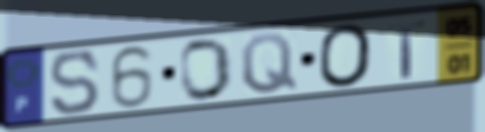6: (108, 43, 157, 111)
O: (316, 22, 374, 90), (178, 36, 235, 104)
Q: (238, 31, 300, 97)
S: (47, 48, 103, 118)
T: (385, 17, 429, 80)
